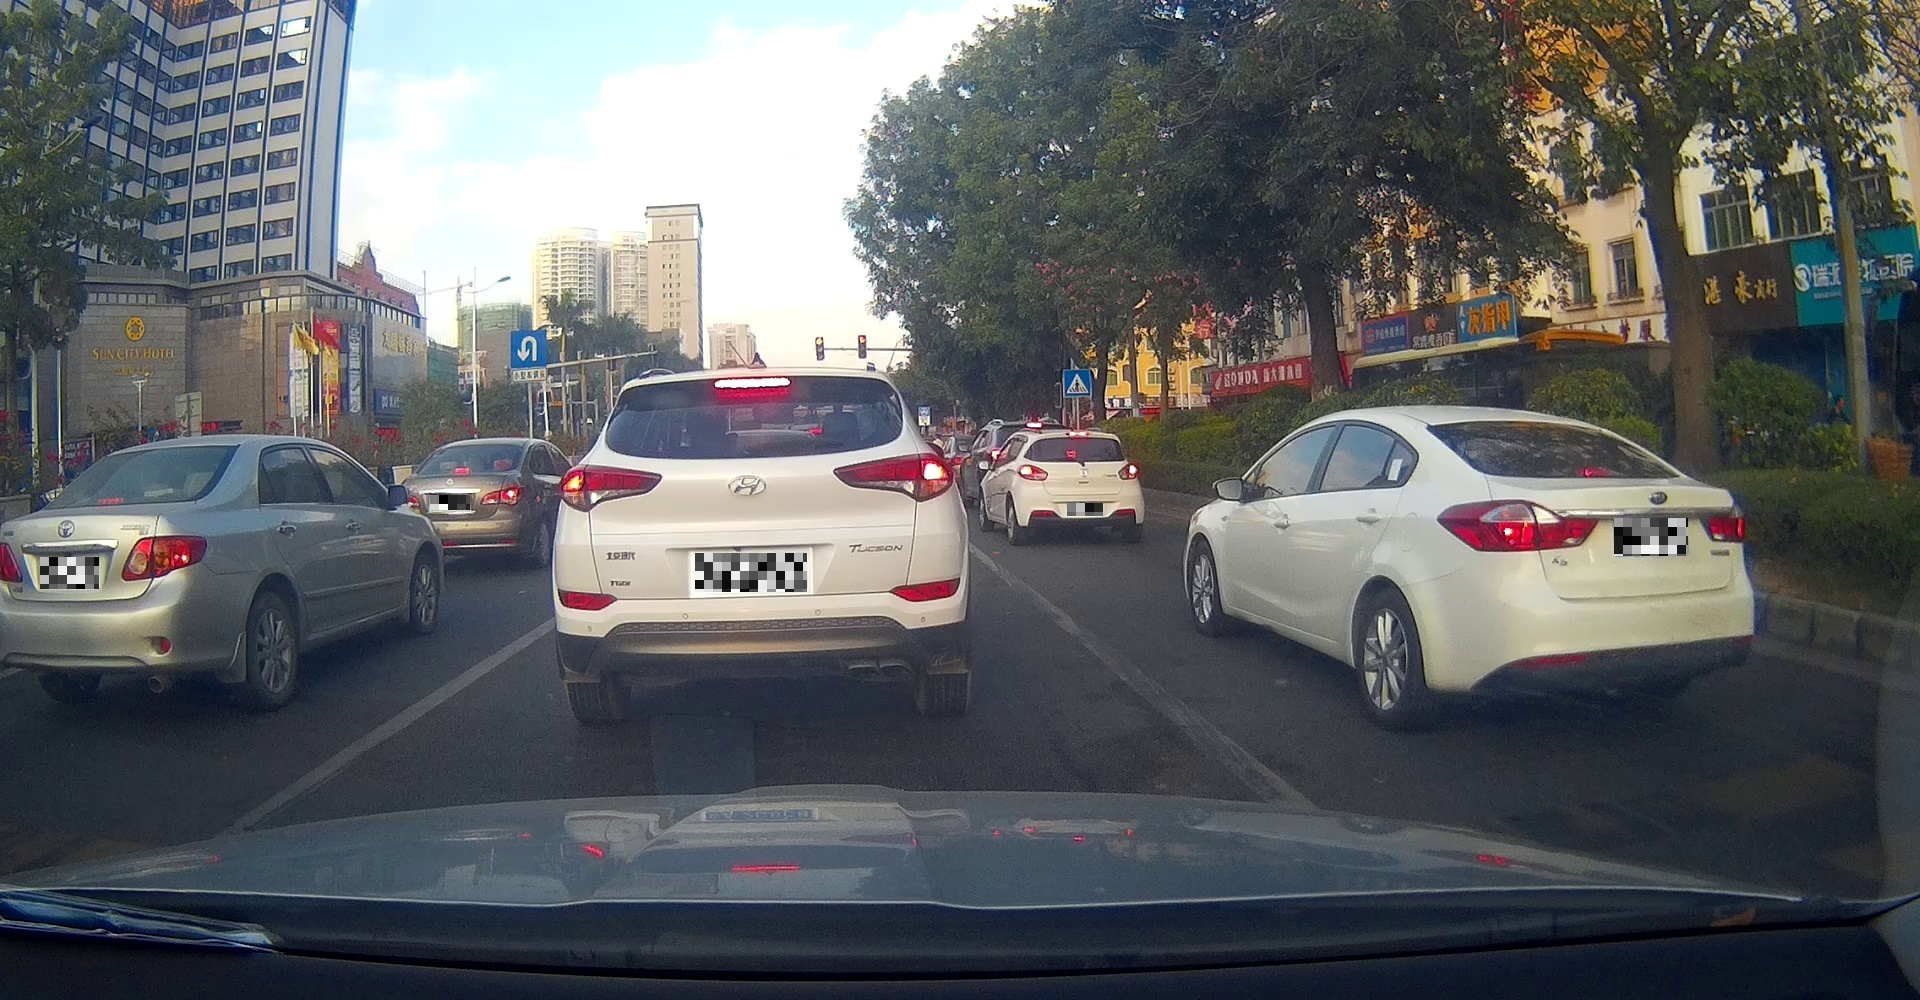L_light: (1436, 500, 1599, 552), (555, 462, 662, 513), (0, 541, 23, 582), (1017, 464, 1048, 481)
R_light: (832, 452, 955, 503), (121, 536, 208, 582), (1697, 503, 1746, 543), (1117, 461, 1139, 480)
T_light: (711, 376, 792, 390), (1575, 464, 1614, 480), (93, 496, 124, 506), (1065, 430, 1091, 439)
day-brake: (552, 365, 964, 725), (1418, 405, 1755, 734), (0, 433, 244, 709), (1016, 429, 1140, 544)
plate_1: (41, 557, 99, 589)
plate_2: (430, 495, 470, 510)
plate_3: (695, 553, 808, 591)
plate_4: (1067, 503, 1103, 516)
plate_5: (1614, 518, 1688, 556)
